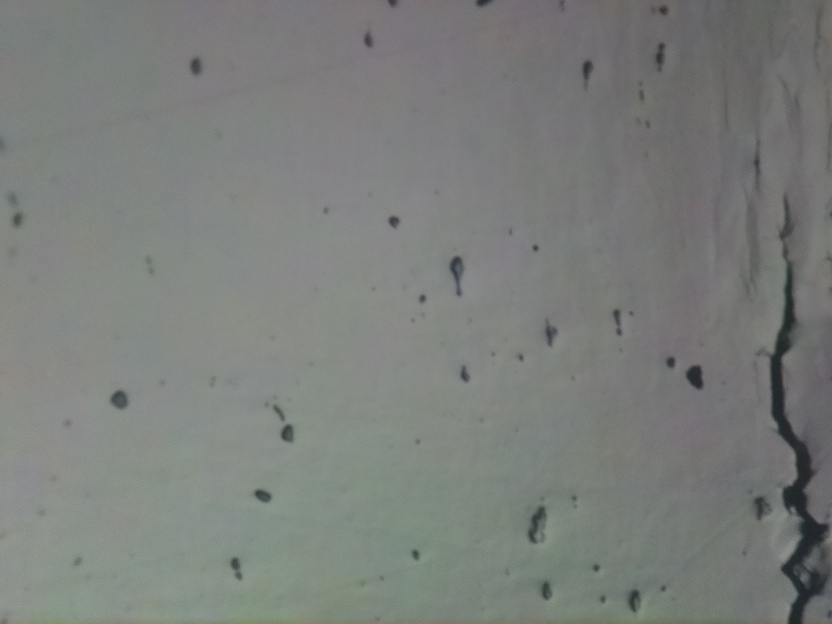crack: (760, 186, 832, 624)
